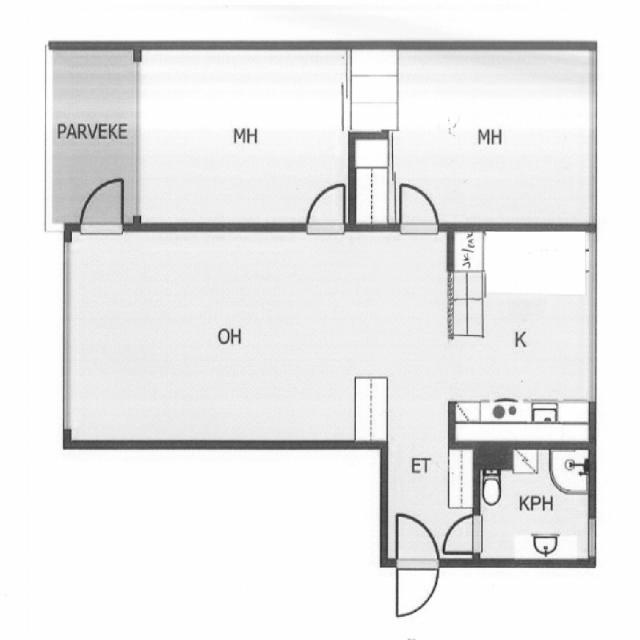door: (70, 221, 451, 459), (346, 41, 591, 231), (134, 43, 355, 224), (447, 230, 591, 442), (477, 451, 591, 571)
window: (578, 226, 601, 415), (581, 41, 605, 222), (55, 238, 76, 431), (578, 510, 598, 566)
zone: (393, 506, 440, 630), (76, 174, 126, 242), (304, 177, 349, 228), (434, 512, 480, 558), (398, 185, 439, 233)
